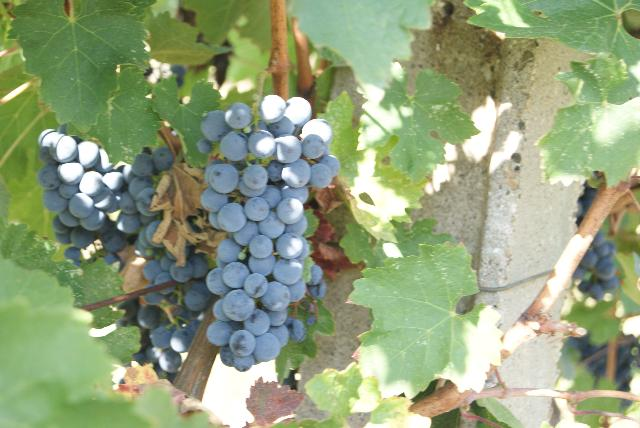grapes: (199, 95, 340, 371), (36, 129, 174, 260), (136, 250, 211, 374)
